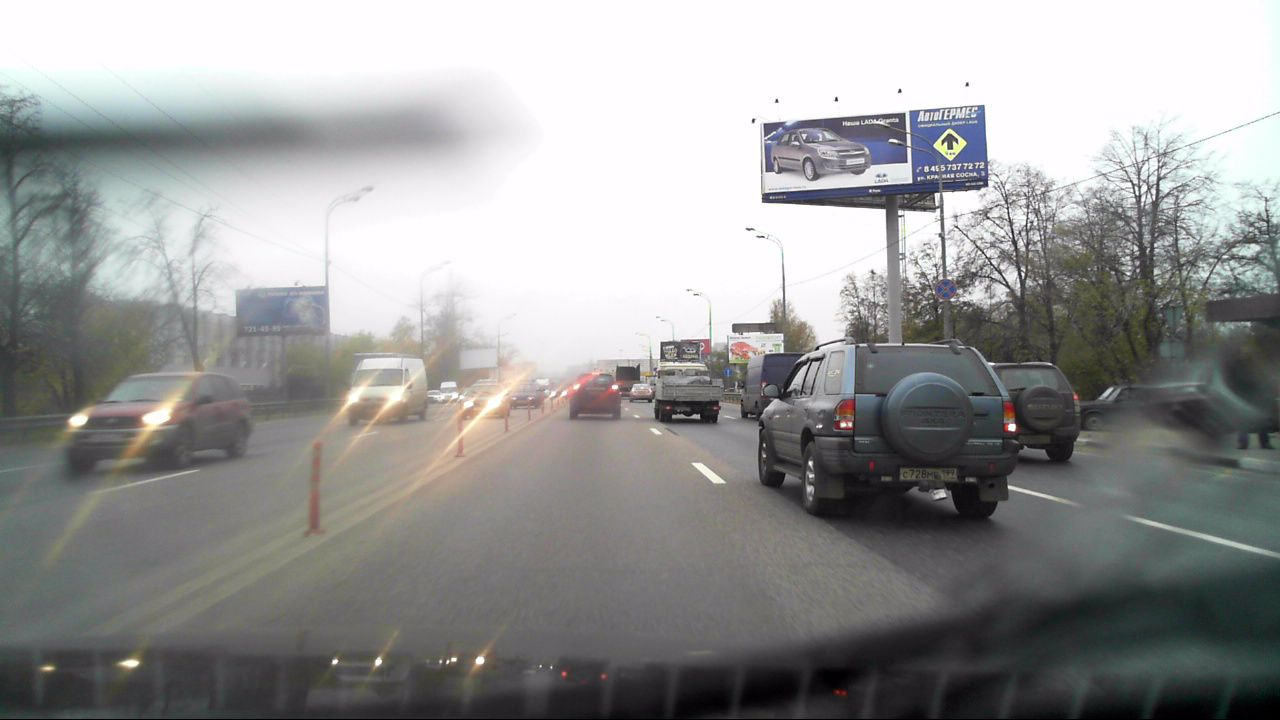No Parking: (935, 278, 956, 300)
